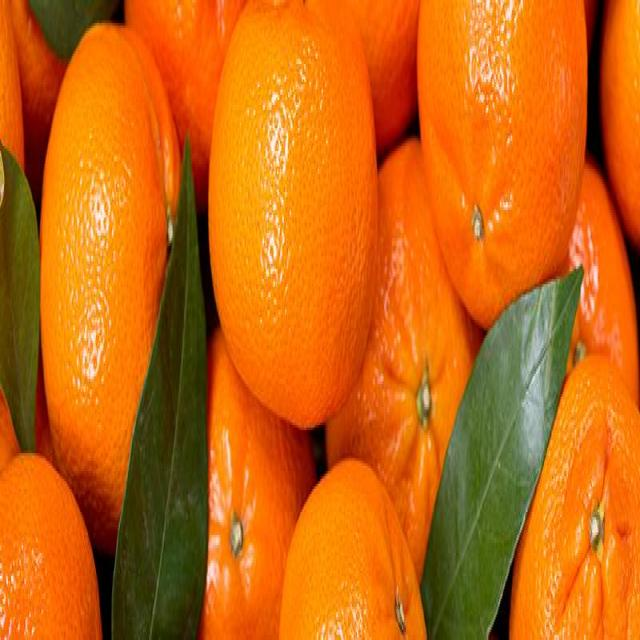10_tangerine: (42, 18, 194, 561), (200, 3, 380, 436), (412, 0, 592, 351), (505, 322, 640, 640), (185, 334, 308, 640), (271, 435, 440, 640), (0, 432, 107, 640)
